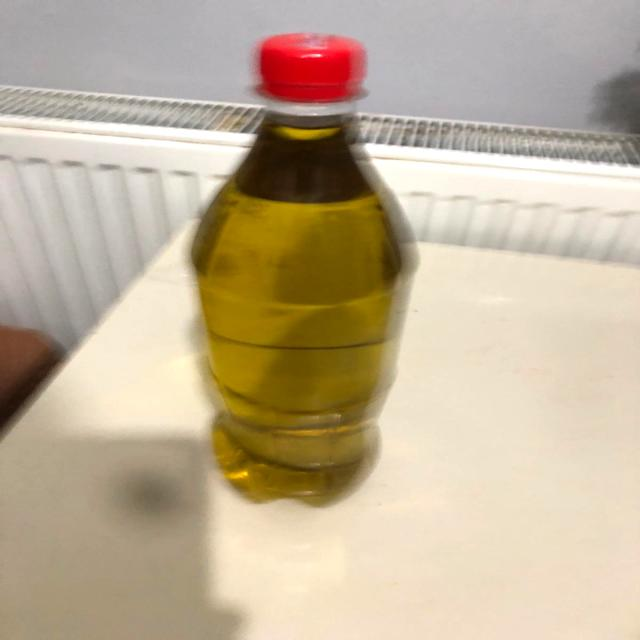olive oil: (181, 29, 424, 511)
